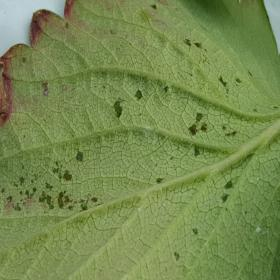Angular Leafspot: (0, 0, 279, 275)
